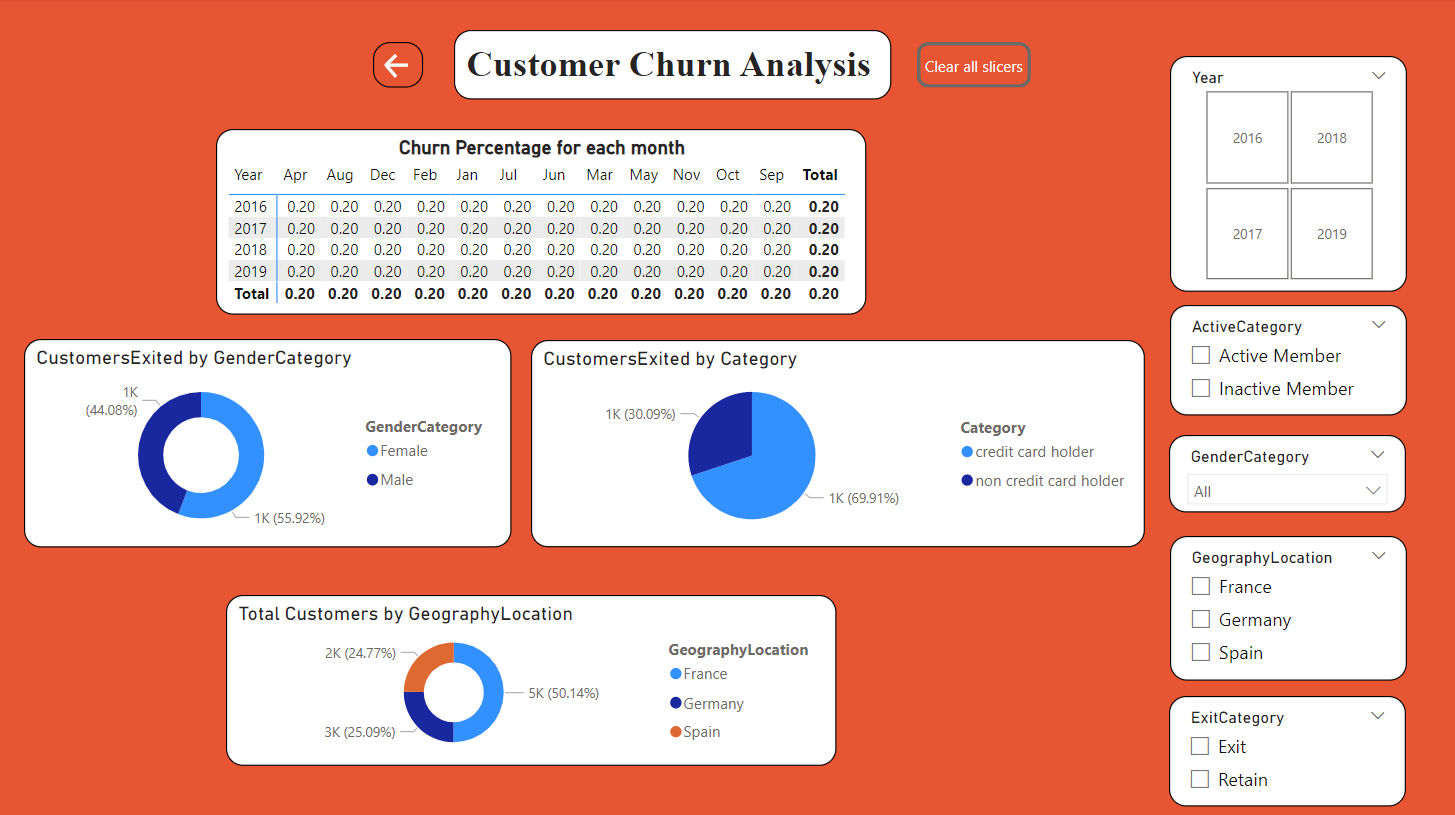

Layout of this report page (visuals, bound fields, positions):
{"tool":"powerbi","page":{"name":"Churn Percentage Page","canvas":[1280,720],"ordinal":1},"visuals":[{"type":"slicer","fields":{"Values":["year.Year"]},"box":[1027.3,50.9,208.1,207.2],"z":0},{"type":"slicer","fields":{"Values":["Gender.GenderCategory"]},"box":[1026.4,383.7,208.1,67.6],"z":1000},{"type":"slicer","fields":{"Values":["Geography.GeographyLocation"]},"box":[1027.3,472.4,208.1,127.3],"z":2000},{"type":"slicer","fields":{"Values":["ExitCustomer.ExitCategory"]},"box":[1026.4,612.9,208.1,97.5],"z":3000},{"type":"slicer","fields":{"Values":["ActiveCustomer.ActiveCategory"]},"box":[1027.3,269.6,208.1,96.6],"z":4000},{"type":"pivotTable","title":"Churn Percentage for each month","fields":{"Rows":["year.Year"],"Values":["Calculations.churn %"],"Columns":["month_name.Column1"]},"box":[189.7,115,570.7,163.3],"z":5000},{"type":"donutChart","fields":{"Category":["Gender.GenderCategory"],"Y":["Calculations.CustomersExited"]},"box":[21.1,299.4,427.6,182.6],"z":6000},{"type":"pieChart","fields":{"Category":["CreditCard.Category"],"Y":["Calculations.CustomersExited"]},"box":[466.2,300.3,539.1,181.8],"z":7000},{"type":"textbox","box":[398.6,28.1,383.7,61.5],"z":8000},{"type":"donutChart","fields":{"Category":["Geography.GeographyLocation"],"Y":["Calculations.Total Customers"]},"box":[198.4,524.2,535.6,150.1],"z":9000},{"type":"actionButton","box":[805.2,38.6,100.1,40.4],"z":10000},{"type":"actionButton","box":[327.5,38.6,43.9,40.4],"z":11000}]}

Visuals, with their boxes in screenshot pixels (x1, y1, x2, y2), scaled from the page's 1280x720 canvas onto the 1455x815 screenshot:
slicer - year.Year: detection(1168, 58, 1404, 292)
slicer - Gender.GenderCategory: detection(1167, 434, 1403, 511)
slicer - Geography.GeographyLocation: detection(1168, 535, 1404, 679)
slicer - ExitCustomer.ExitCategory: detection(1167, 694, 1403, 804)
slicer - ActiveCustomer.ActiveCategory: detection(1168, 305, 1404, 415)
"Churn Percentage for each month" pivotTable: detection(216, 130, 864, 315)
donutChart - Gender.GenderCategory x Calculations.CustomersExited: detection(24, 339, 510, 546)
pieChart - CreditCard.Category x Calculations.CustomersExited: detection(530, 340, 1143, 546)
textbox: detection(453, 32, 889, 101)
donutChart - Geography.GeographyLocation x Calculations.Total Customers: detection(226, 593, 834, 763)
actionButton: detection(915, 44, 1029, 89)
actionButton: detection(372, 44, 422, 89)
